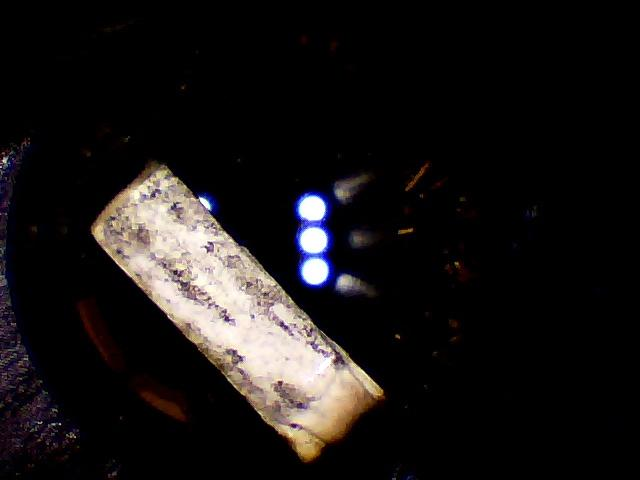megot: (67, 152, 396, 470)
